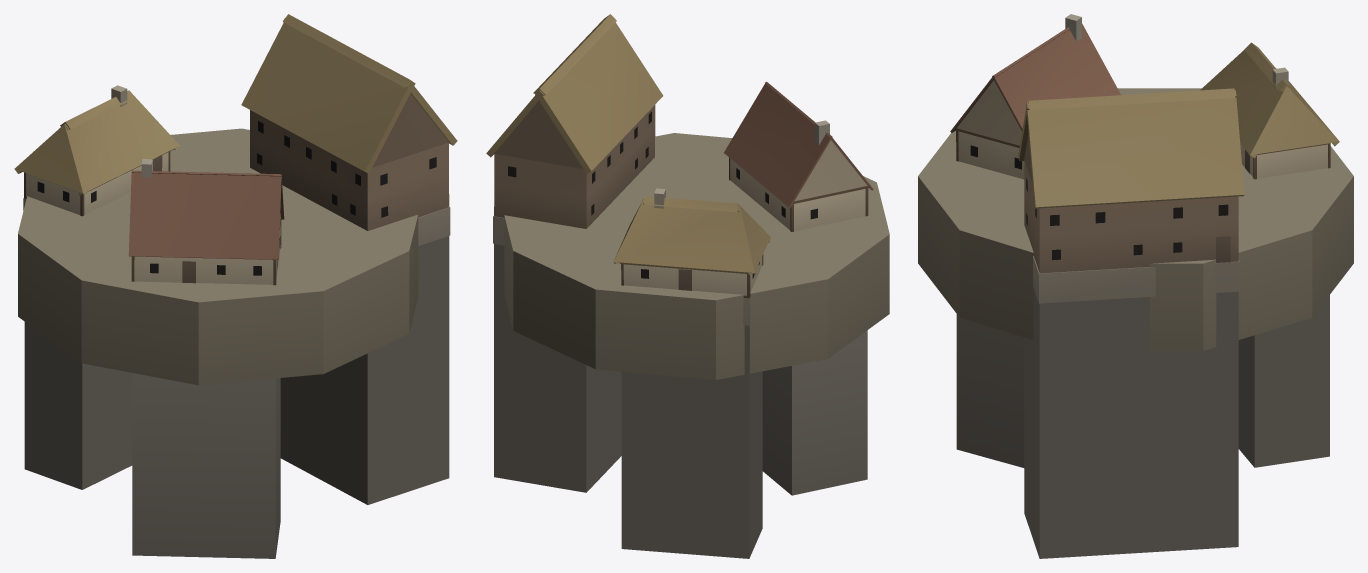
File: hamlet_a.glb
3 views of the same model, side by side, from view 1: azimuth 30°, elevation 25°; view 2: azimuth 150°, elevation 25°; view 3: azimuth 270°, elevation 25° (orthographic). The views are drawn at different scales.
Visible parts, largest first — view 1: hamlet_a; view 2: hamlet_a; view 3: hamlet_a.
Part boxes in pixels (left/top/right/bottom): hamlet_a: left=14, top=14, right=457, bottom=558; hamlet_a: left=486, top=14, right=889, bottom=558; hamlet_a: left=918, top=14, right=1353, bottom=558.
Size of the model in its own units: 0.5228 by 0.5731 by 0.52.
